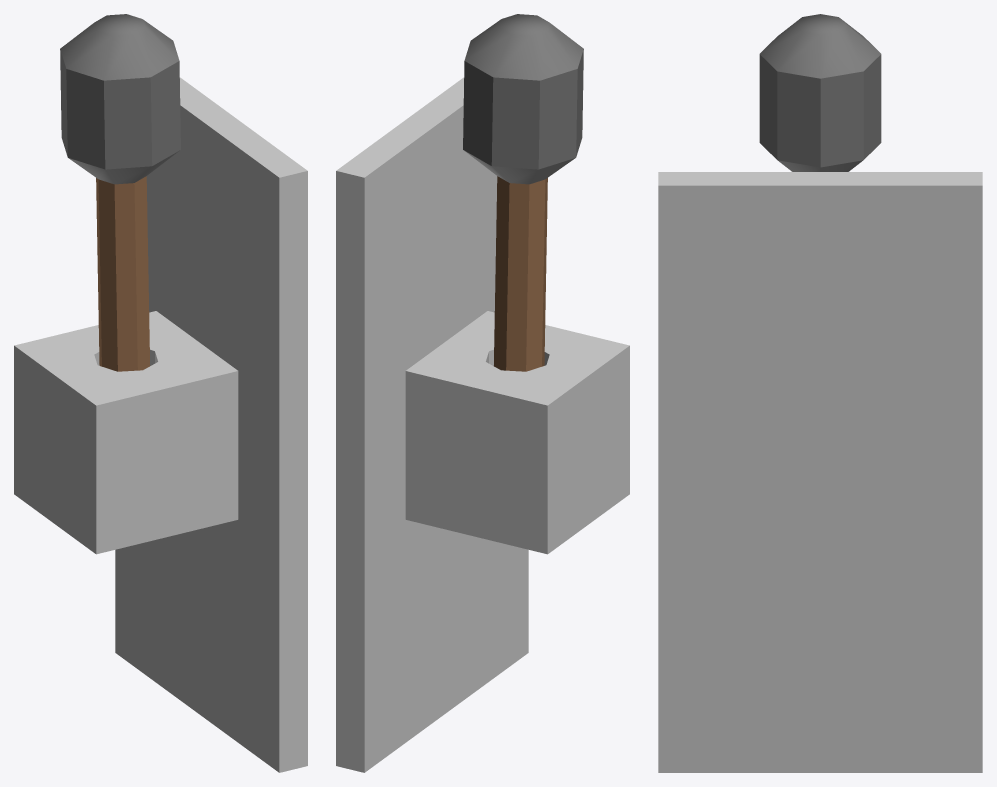
File: torchCastle.fbx
The picture shows the model from 3 angles, left to right: view 1: azimuth 30°, elevation 25°; view 2: azimuth 150°, elevation 25°; view 3: azimuth 270°, elevation 25°; orthographic projection.
Visible parts, largest first — view 1: torchHolder, torch; view 2: torchHolder, torch; view 3: torchHolder, torch.
Boxes of the visible parts, <box> form: torchHolder: <box>14,77,307,772</box>; torch: <box>60,14,180,371</box>; torchHolder: <box>336,77,629,772</box>; torch: <box>463,14,583,371</box>; torchHolder: <box>658,172,982,772</box>; torch: <box>759,14,881,171</box>.
Bounding box in the file's own units: 6 × 23.76 × 10.
